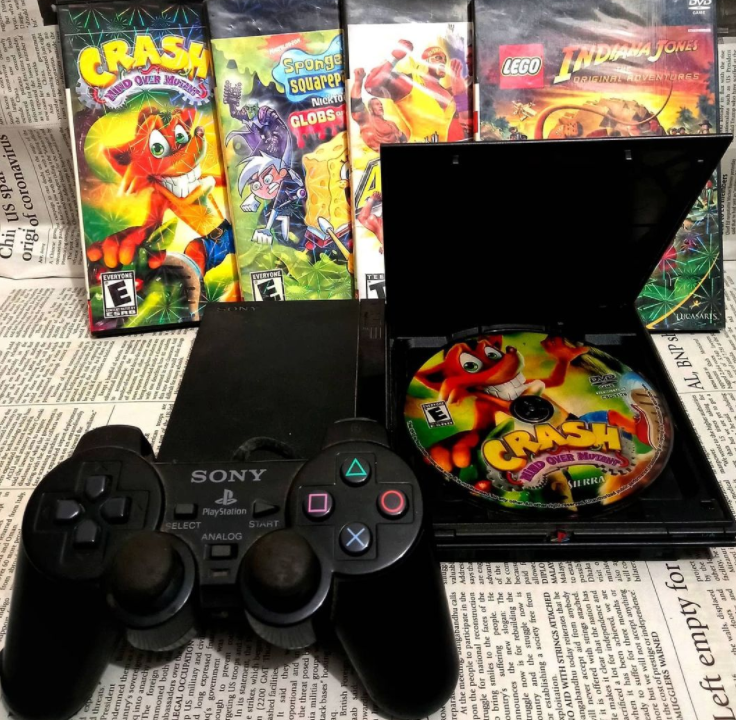gamingconsole: (3, 425, 458, 707)
